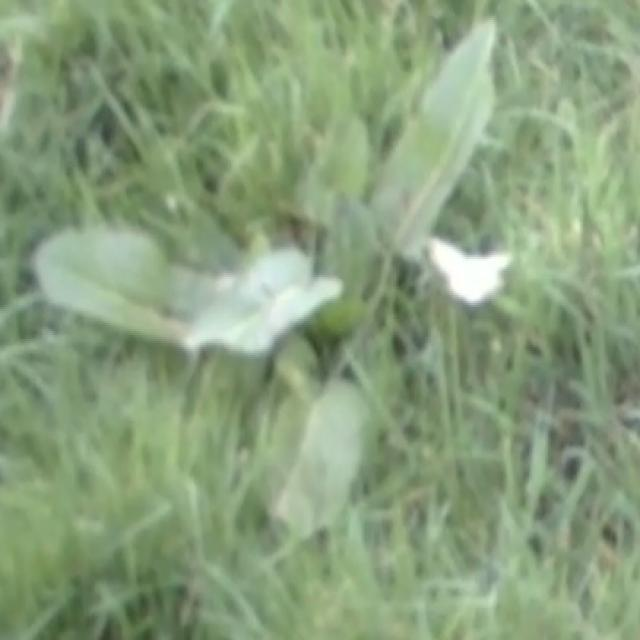organic waste: (11, 44, 564, 494)
